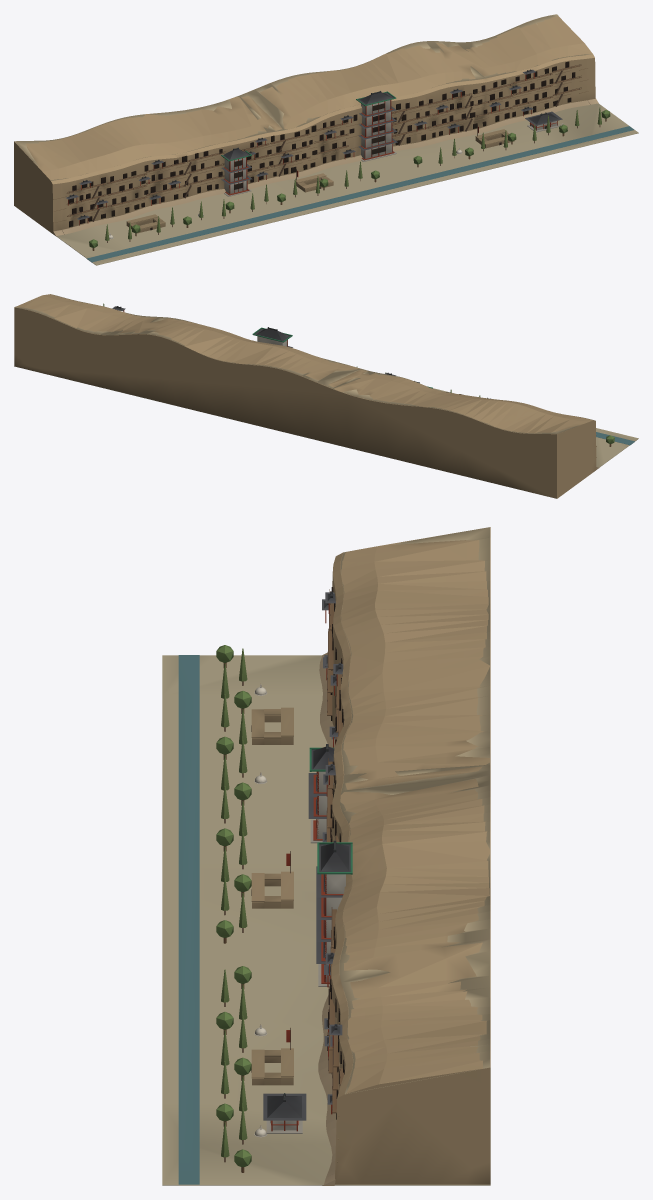
Rendered from mogao-950.glb.
3 renders of one model, top to bottom at view 1: azimuth 30°, elevation 25°; view 2: azimuth 150°, elevation 25°; view 3: azimuth 270°, elevation 25°, orthographic. The views are drawn at different scales.
Visible parts, largest first — view 1: p0_valley, p1_halls, p2_roofs; view 2: p0_valley, p2_roofs; view 3: p0_valley, p2_roofs, p1_halls.
Part boxes in pixels (x1,y1,x2,y2): p0_valley: (14, 14, 638, 265); p1_halls: (67, 61, 581, 239); p2_roofs: (66, 69, 610, 250); p0_valley: (14, 294, 638, 498); p2_roofs: (103, 303, 614, 446); p0_valley: (162, 527, 490, 1185); p2_roofs: (216, 591, 352, 1172); p1_halls: (251, 587, 345, 1137).
Size of the model in its own units: 420 by 48.49 by 110.
